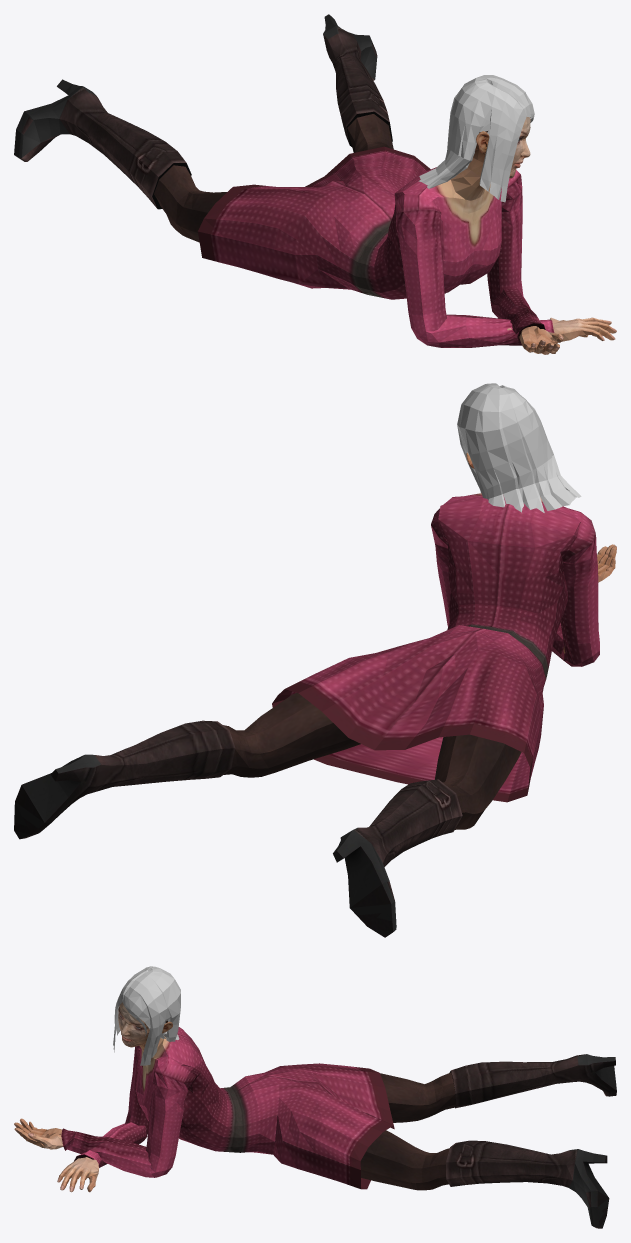
The model's file is lyingDownFemale01.obj.
The picture shows the model from 3 angles, top to bottom: view 1: azimuth 30°, elevation 25°; view 2: azimuth 150°, elevation 25°; view 3: azimuth 270°, elevation 25°; orthographic projection. The views are drawn at different scales.
Parts seen in each view (by area): view 1: objpolySurface1023; view 2: objpolySurface1023; view 3: objpolySurface1023.
Part boxes in pixels (x1,y1,x2,y2): objpolySurface1023: [14, 14, 616, 354]; objpolySurface1023: [14, 383, 616, 937]; objpolySurface1023: [14, 966, 616, 1228].
Size of the model in its own units: 89.44 by 59.86 by 164.
